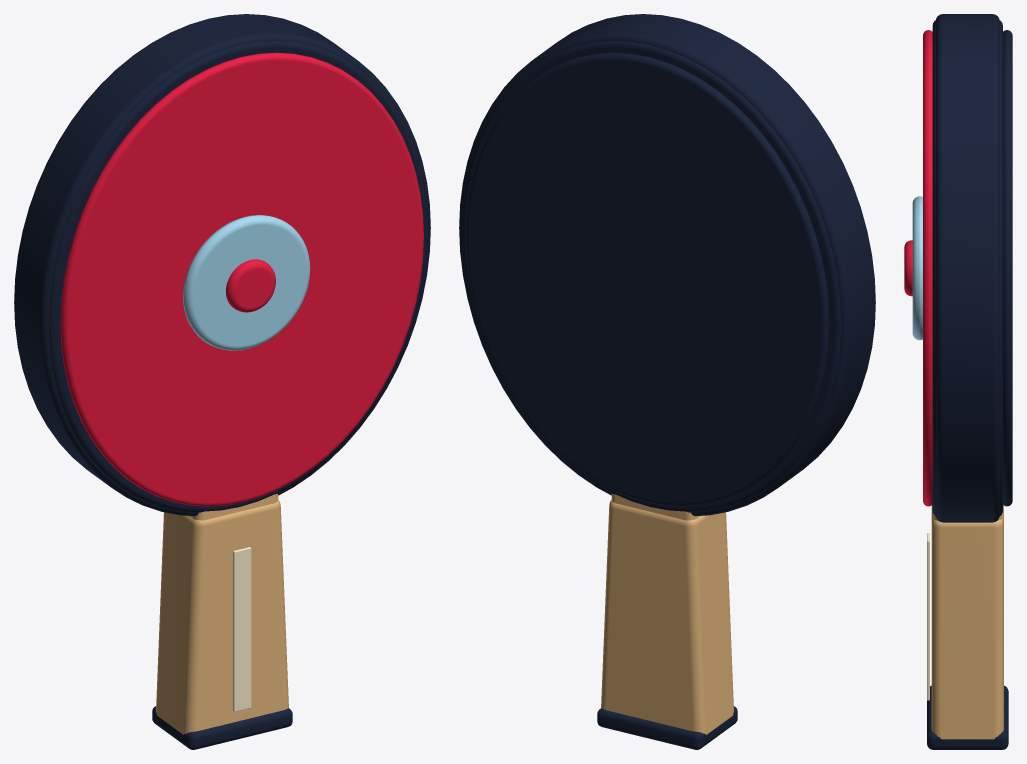
File: Homing.glb
3 views of the same model, side by side, from view 1: azimuth 30°, elevation 25°; view 2: azimuth 150°, elevation 25°; view 3: azimuth 270°, elevation 25° (orthographic).
Parts seen in each view (by area): view 1: FrontRubber, OuterRim, WoodHandle, TargetCircle, RimLip, HandleInlay, HandleButt, TargetCore; view 2: BackRubber, WoodHandle, OuterRim, RimLip, HandleButt; view 3: OuterRim, WoodHandle, FrontRubber, BackRubber, RimLip, TargetCircle, HandleButt, HandleInlay, TargetCore.
Part boxes in pixels (x1=…): FrontRubber: x1=60, y1=52, x2=423, y2=506; OuterRim: x1=14, y1=14, x2=430, y2=516; WoodHandle: x1=156, y1=500, x2=288, y2=734; TargetCircle: x1=183, y1=215, x2=310, y2=350; RimLip: x1=48, y1=41, x2=428, y2=512; HandleInlay: x1=233, y1=547, x2=251, y2=711; HandleButt: x1=152, y1=706, x2=292, y2=749; TargetCore: x1=226, y1=259, x2=275, y2=312; BackRubber: x1=466, y1=52, x2=829, y2=506; WoodHandle: x1=601, y1=500, x2=733, y2=734; OuterRim: x1=459, y1=14, x2=875, y2=516; RimLip: x1=461, y1=41, x2=841, y2=512; HandleButt: x1=597, y1=706, x2=737, y2=749; OuterRim: x1=936, y1=14, x2=999, y2=522; WoodHandle: x1=931, y1=505, x2=1003, y2=739; FrontRubber: x1=923, y1=30, x2=932, y2=506; BackRubber: x1=1003, y1=30, x2=1012, y2=506; RimLip: x1=932, y1=20, x2=1002, y2=516; TargetCircle: x1=912, y1=196, x2=922, y2=340; HandleButt: x1=927, y1=685, x2=1008, y2=749; HandleInlay: x1=927, y1=533, x2=929, y2=700; TargetCore: x1=904, y1=240, x2=912, y2=296.
Size of the model in its own units: 0.56 by 0.9565 by 0.1352.
